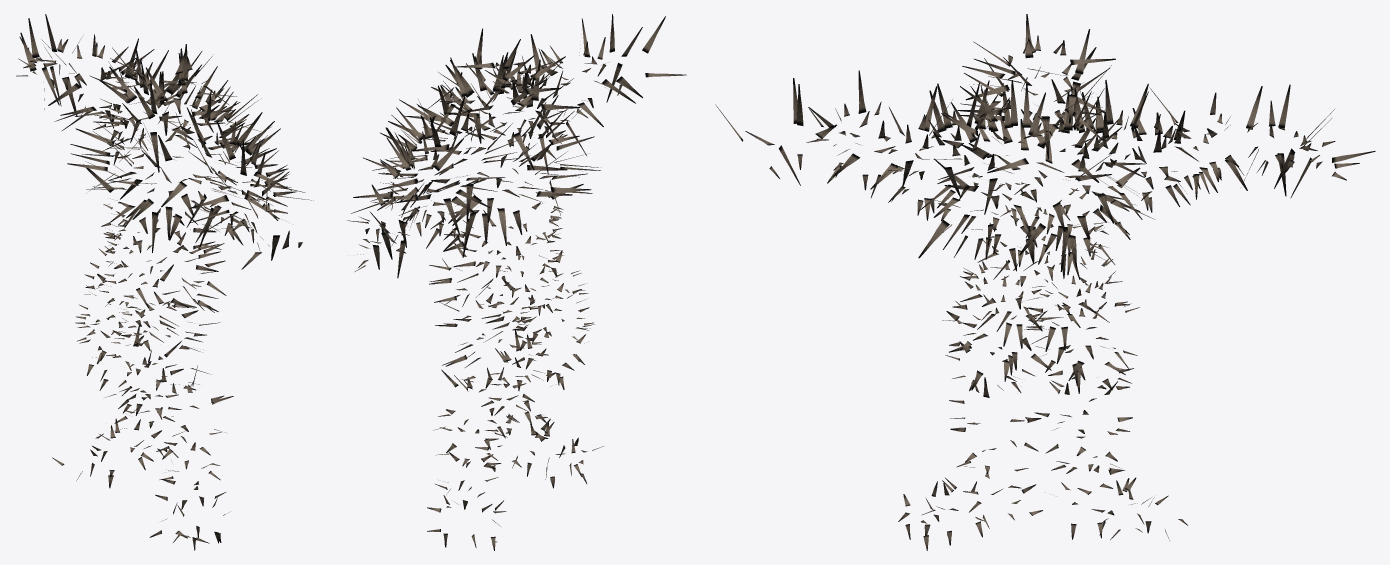
File: fur_cards_lod1.glb
The picture shows the model from 3 angles, left to right: view 1: azimuth 30°, elevation 25°; view 2: azimuth 150°, elevation 25°; view 3: azimuth 270°, elevation 25°; orthographic projection. The views are drawn at different scales.
Visible parts, largest first — view 1: FurCards_LOD1; view 2: FurCards_LOD1; view 3: FurCards_LOD1.
Part boxes in pixels (x1,y1,x2,y2): FurCards_LOD1: (16, 14, 313, 550); FurCards_LOD1: (347, 14, 686, 550); FurCards_LOD1: (715, 14, 1375, 550).
Size of the model in its own units: 0.851 by 2.09 by 2.44.
Materials: 2 (2 with a texture image).
